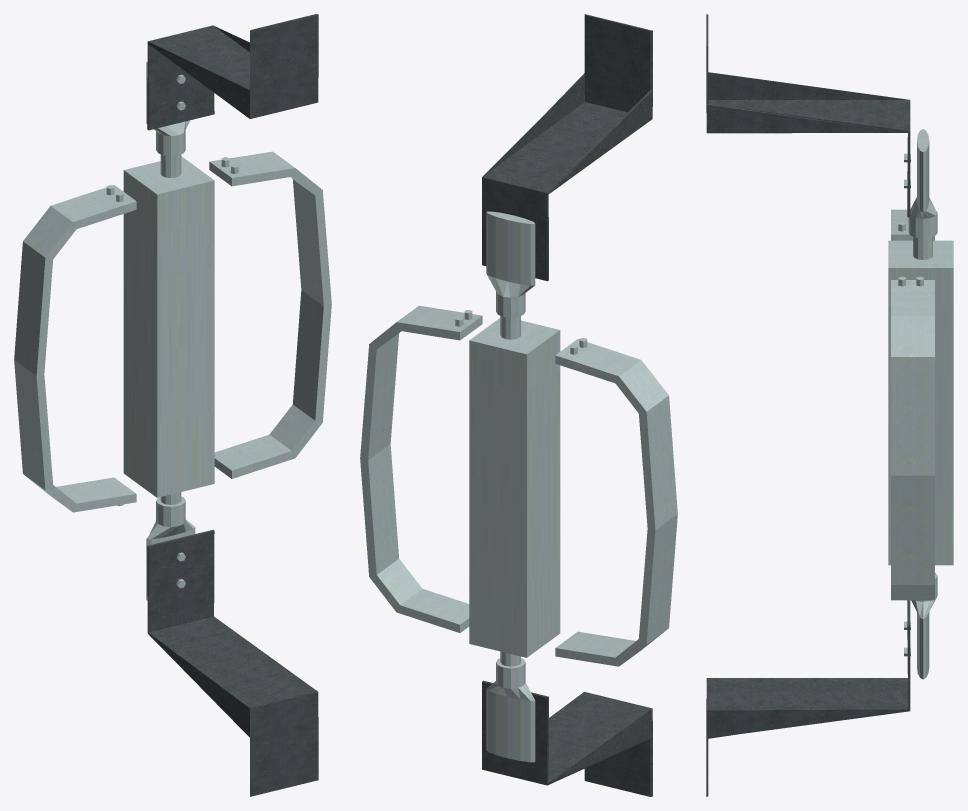
File: pj-052-geode.glb
3 renders of one model, left to right at view 1: azimuth 30°, elevation 25°; view 2: azimuth 150°, elevation 25°; view 3: azimuth 270°, elevation 25°, orthographic. The views are drawn at different scales.
Visible parts, largest first — view 1: Node; view 2: Node; view 3: Node.
Boxes of the visible parts, left/top/right/bottom form: Node: left=14, top=14, right=331, bottom=796; Node: left=360, top=14, right=677, bottom=796; Node: left=706, top=14, right=953, bottom=796.
Size of the model in its own units: 0.6138 by 1.52 by 0.4544.
2 materials, 2 textured.
